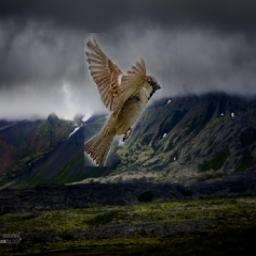Sparrow: (84, 34, 162, 167)
